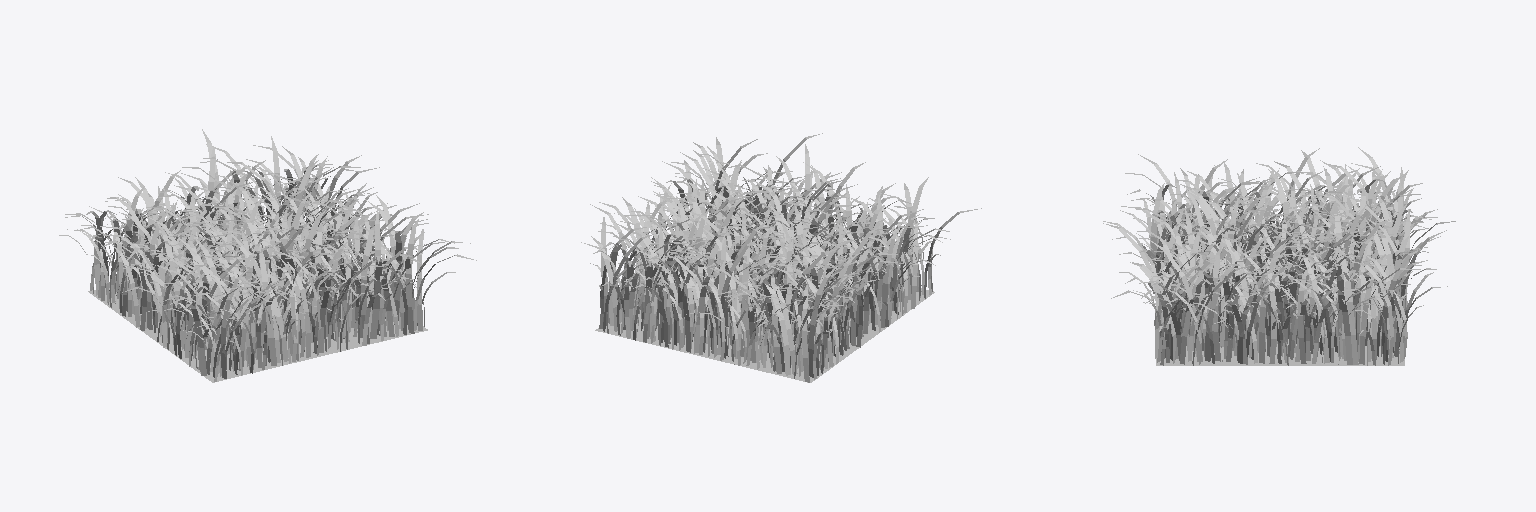
The model's file is grass.obj.
3 renders of one model, left to right at view 1: azimuth 30°, elevation 25°; view 2: azimuth 150°, elevation 25°; view 3: azimuth 270°, elevation 25°, orthographic.
Parts seen in each view (by area): view 1: object; view 2: object; view 3: object.
Part boxes in pixels (x1,y1,x2,y2): object: (59, 129, 476, 382); object: (581, 133, 981, 382); object: (1103, 147, 1455, 365).
Bounding box in the file's own units: 1.41 × 0.4922 × 1.45.